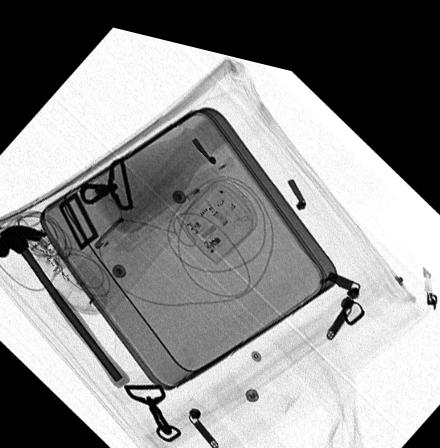Hammer: (0, 222, 130, 382)
